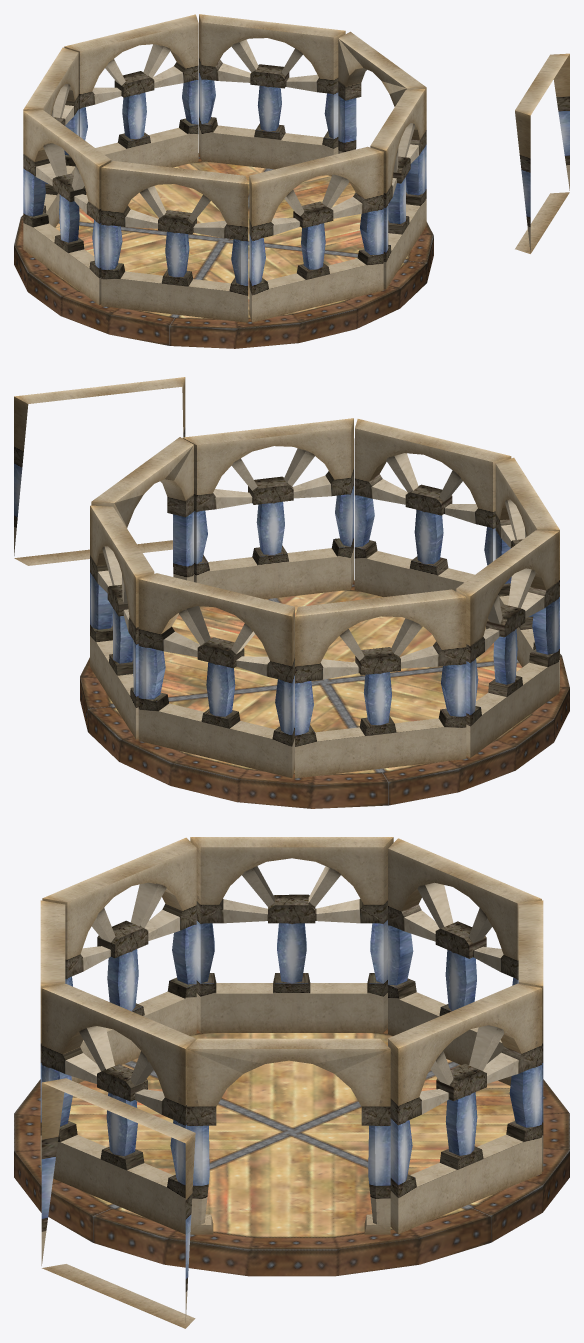
The model's file is P_Modul_03.FBX.
3 views of the same model, one above another, from view 1: azimuth 30°, elevation 25°; view 2: azimuth 150°, elevation 25°; view 3: azimuth 270°, elevation 25° (orthographic). The views are drawn at different scales.
Visible parts, largest first — view 1: P_Modul_03_Floor, P_Modul_03_Wall07, P_Modul_03_Wall06, P_Modul_03_Wall01, P_Modul_03_Wall02, P_Modul_03_Wall04, P_Modul_03_Wall05, P_Modul_03_WalCol, P_Modul_03_Wall03, P_Modul_03_Gate_05, P_Modul_03_Gate_06, P_Modul_03_Gate_04 (+1 smaller); view 2: P_Modul_03_Floor, P_Modul_03_Wall03, P_Modul_03_Wall02, P_Modul_03_Wall05, P_Modul_03_Wall06, P_Modul_03_Wall04, P_Modul_03_Wall01, P_Modul_03_Wall07, P_Modul_03_WalCol, P_Modul_03_Gate_05, P_Modul_03_Gate_02, P_Modul_03_Gate_03 (+1 smaller); view 3: P_Modul_03_Floor, P_Modul_03_Wall04, P_Modul_03_Wall01, P_Modul_03_Wall05, P_Modul_03_Wall07, P_Modul_03_Wall03, P_Modul_03_WalCol, P_Modul_03_Gate_05, P_Modul_03_Gate_06, P_Modul_03_Wall06, P_Modul_03_Wall02, P_Modul_03_Gate_02 (+3 smaller).
Boxes of the visible parts, bbox=[...] form: P_Modul_03_Floor: bbox=[14, 153, 433, 348]; P_Modul_03_Wall07: bbox=[101, 161, 248, 322]; P_Modul_03_Wall06: bbox=[249, 146, 383, 322]; P_Modul_03_Wall01: bbox=[199, 14, 345, 175]; P_Modul_03_Wall02: bbox=[64, 14, 198, 167]; P_Modul_03_Wall04: bbox=[23, 110, 111, 305]; P_Modul_03_Wall05: bbox=[370, 89, 425, 289]; P_Modul_03_WalCol: bbox=[515, 53, 569, 253]; P_Modul_03_Wall03: bbox=[23, 47, 78, 227]; P_Modul_03_Gate_05: bbox=[338, 31, 425, 88]; P_Modul_03_Gate_06: bbox=[338, 42, 356, 153]; P_Modul_03_Gate_04: bbox=[338, 39, 366, 100]; P_Modul_03_Floor: bbox=[80, 580, 569, 808]; P_Modul_03_Wall03: bbox=[295, 589, 466, 778]; P_Modul_03_Wall02: bbox=[138, 573, 294, 778]; P_Modul_03_Wall05: bbox=[183, 418, 353, 606]; P_Modul_03_Wall06: bbox=[354, 419, 511, 597]; P_Modul_03_Wall04: bbox=[456, 530, 558, 757]; P_Modul_03_Wall01: bbox=[90, 505, 154, 739]; P_Modul_03_Wall07: bbox=[495, 457, 559, 691]; P_Modul_03_WalCol: bbox=[14, 377, 185, 565]; P_Modul_03_Gate_05: bbox=[91, 437, 193, 502]; P_Modul_03_Gate_02: bbox=[173, 452, 193, 581]; P_Modul_03_Gate_03: bbox=[160, 445, 193, 517]; P_Modul_03_Floor: bbox=[14, 1029, 569, 1276]; P_Modul_03_Wall04: bbox=[190, 837, 393, 1032]; P_Modul_03_Wall01: bbox=[388, 983, 541, 1234]; P_Modul_03_Wall05: bbox=[41, 984, 195, 1234]; P_Modul_03_Wall07: bbox=[42, 837, 196, 1083]; P_Modul_03_Wall03: bbox=[388, 838, 541, 1085]; P_Modul_03_WalCol: bbox=[41, 1078, 195, 1328]; P_Modul_03_Gate_05: bbox=[187, 1038, 390, 1063]; P_Modul_03_Gate_06: bbox=[364, 1051, 390, 1234]; P_Modul_03_Wall06: bbox=[40, 900, 65, 1171]; P_Modul_03_Wall02: bbox=[518, 900, 543, 1171]; P_Modul_03_Gate_02: bbox=[187, 1049, 213, 1234].
Bounding box in the file's own units: 26.7 × 8.48 × 19.76.
2 materials, 2 textured.
